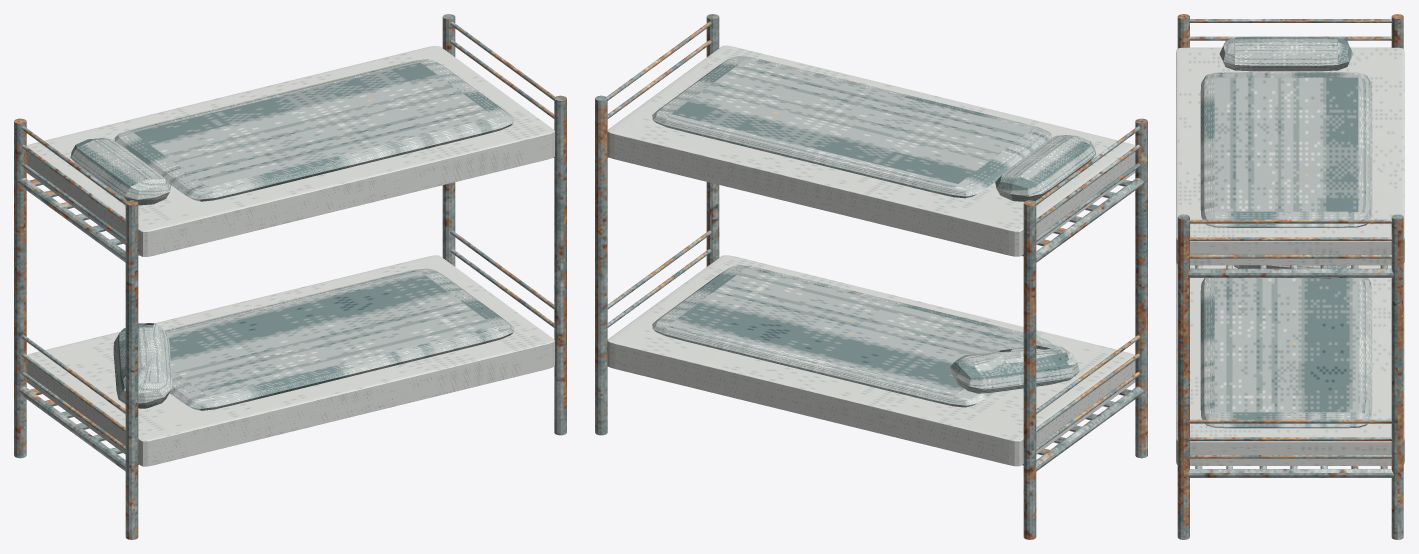
Rendered from bunkbed_ripped.glb.
The picture shows the model from 3 angles, left to right: view 1: azimuth 30°, elevation 25°; view 2: azimuth 150°, elevation 25°; view 3: azimuth 270°, elevation 25°; orthographic projection. The views are drawn at different scales.
Visible parts, largest first — view 1: Cube.005, Cube, Cube.003, Cube.001, Cylinder, Cube.004, Cube.007; view 2: Cube.005, Cube, Cube.001, Cube.003, Cylinder, Cube.004, Cube.007; view 3: Cube.005, Cube.003, Cylinder, Cube.001, Cube, Cube.004, Cube.007.
Part boxes in pixels (x1=…): Cube.005: x1=114, y1=59, x2=514, y2=201; Cube: x1=26, y1=255, x2=554, y2=466; Cube.003: x1=165, y1=268, x2=514, y2=410; Cube.001: x1=26, y1=46, x2=554, y2=256; Cylinder: x1=14, y1=14, x2=566, y2=539; Cube.004: x1=70, y1=138, x2=170, y2=205; Cube.007: x1=113, y1=323, x2=172, y2=408; Cube.005: x1=652, y1=56, x2=1051, y2=198; Cube: x1=607, y1=255, x2=1135, y2=466; Cube.001: x1=607, y1=45, x2=1135, y2=256; Cube.003: x1=652, y1=265, x2=1051, y2=407; Cylinder: x1=595, y1=14, x2=1147, y2=539; Cube.004: x1=995, y1=135, x2=1095, y2=201; Cube.007: x1=950, y1=344, x2=1079, y2=393; Cube.005: x1=1200, y1=72, x2=1372, y2=227; Cube.003: x1=1200, y1=278, x2=1372, y2=428; Cylinder: x1=1177, y1=14, x2=1403, y2=539; Cube.001: x1=1176, y1=47, x2=1404, y2=265; Cube: x1=1176, y1=261, x2=1404, y2=465; Cube.004: x1=1219, y1=36, x2=1353, y2=71; Cube.007: x1=1234, y1=265, x2=1351, y2=278.
Size of the model in its own units: 3.69 by 2.69 by 1.74.
4 materials, 4 textured.
